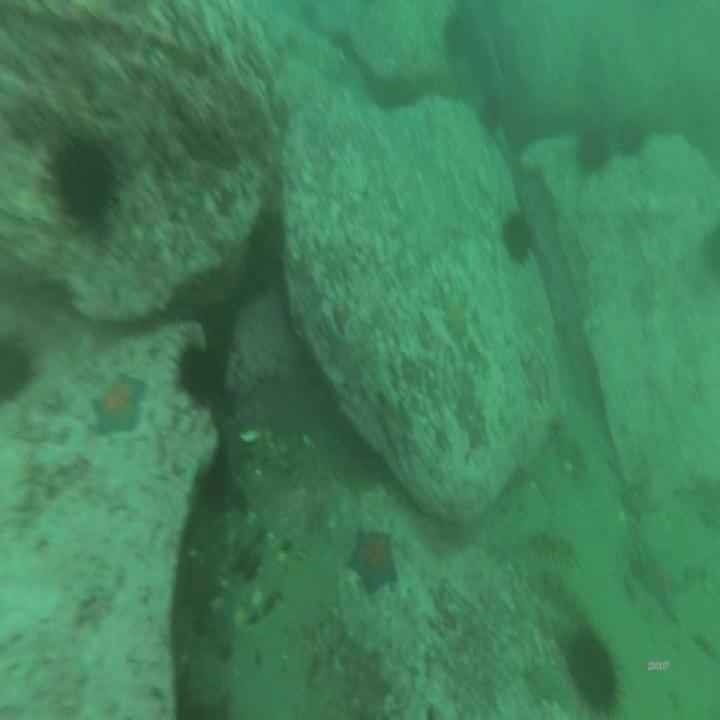echinus: (52, 142, 110, 230), (566, 630, 620, 708), (246, 204, 285, 284), (179, 345, 218, 403), (1, 338, 27, 398), (503, 212, 532, 260), (577, 135, 607, 173), (442, 16, 466, 59), (479, 89, 503, 131), (618, 121, 639, 160)
holothurian: (538, 576, 580, 622), (522, 532, 578, 566)
starfish: (345, 524, 398, 596), (95, 375, 144, 432), (644, 555, 685, 608), (444, 300, 468, 340)
